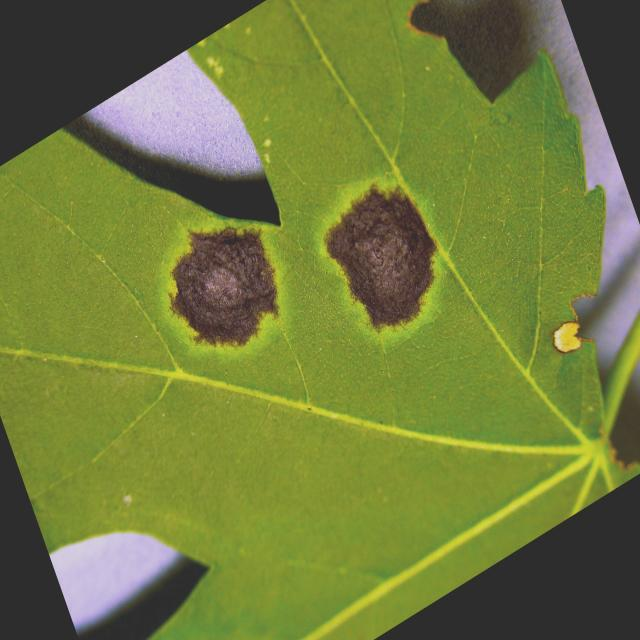Tar_Spot: (1, 1, 638, 638)
